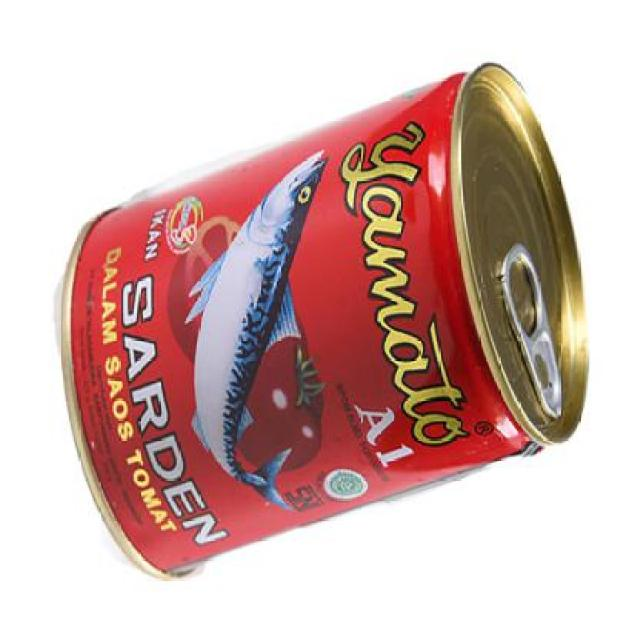Metal: (62, 59, 589, 581)
